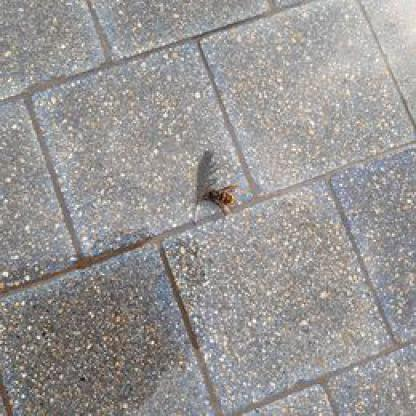Asian Hornet: (206, 185, 246, 214)
